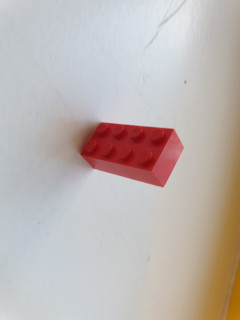2x4 red: (79, 122, 187, 189)
